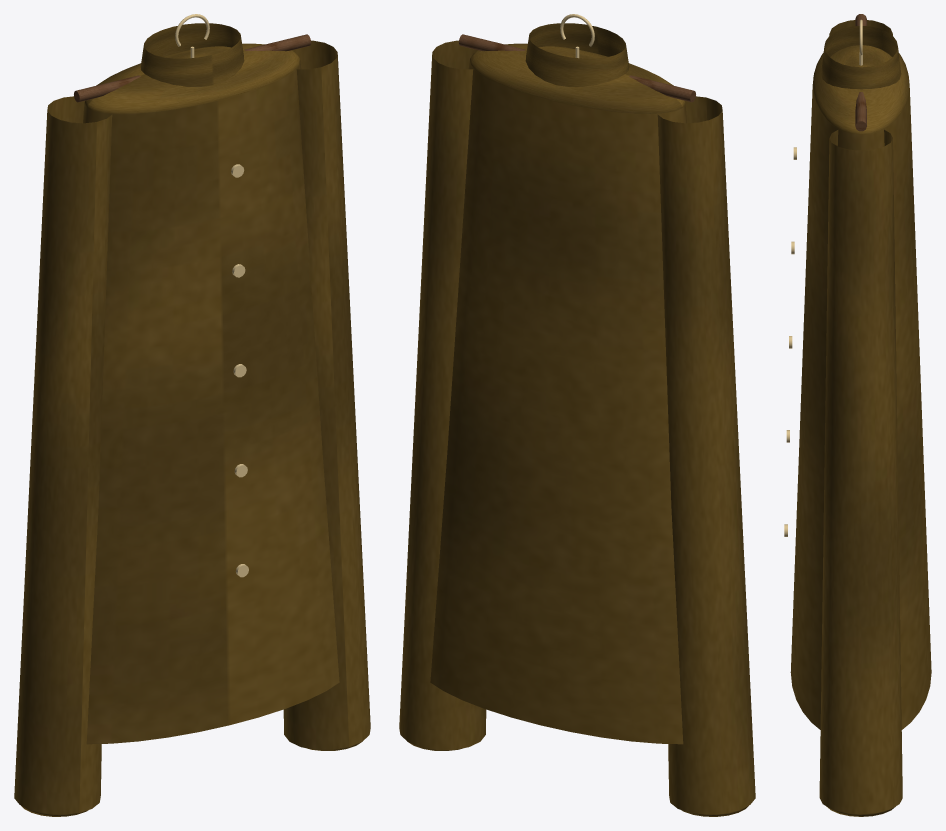
The model's file is oilskin-coat.glb.
The picture shows the model from 3 angles, left to right: view 1: azimuth 30°, elevation 25°; view 2: azimuth 150°, elevation 25°; view 3: azimuth 270°, elevation 25°; orthographic projection. The views are drawn at different scales.
Visible parts, largest first — view 1: Body, SleeveR, SleeveL, Shoulders, Collar, Hanger; view 2: Body, SleeveR, SleeveL, Shoulders, Collar, Hanger; view 3: SleeveL, Body, Shoulders, Collar, Hanger, SleeveR.
Boxes of the visible parts, box(x1,y1,x2,y2) form: Body: box(83, 61, 339, 744); SleeveR: box(14, 96, 112, 814); SleeveL: box(283, 40, 370, 749); Shoulders: box(84, 43, 300, 113); Collar: box(140, 23, 244, 86); Hanger: box(74, 34, 310, 102); Body: box(430, 61, 686, 744); SleeveR: box(657, 96, 755, 814); SleeveL: box(399, 40, 486, 749); Shoulders: box(469, 43, 685, 113); Collar: box(525, 23, 629, 86); Hanger: box(459, 34, 695, 102); SleeveL: box(819, 129, 902, 814); Body: box(790, 88, 931, 729); Shoulders: box(812, 45, 909, 134); Collar: box(821, 26, 901, 89); Hanger: box(855, 14, 866, 131); SleeveR: box(829, 20, 892, 35).
Size of the model in its own units: 0.6573 by 1.37 by 0.2547.
Materials: 3 (2 with a texture image).
